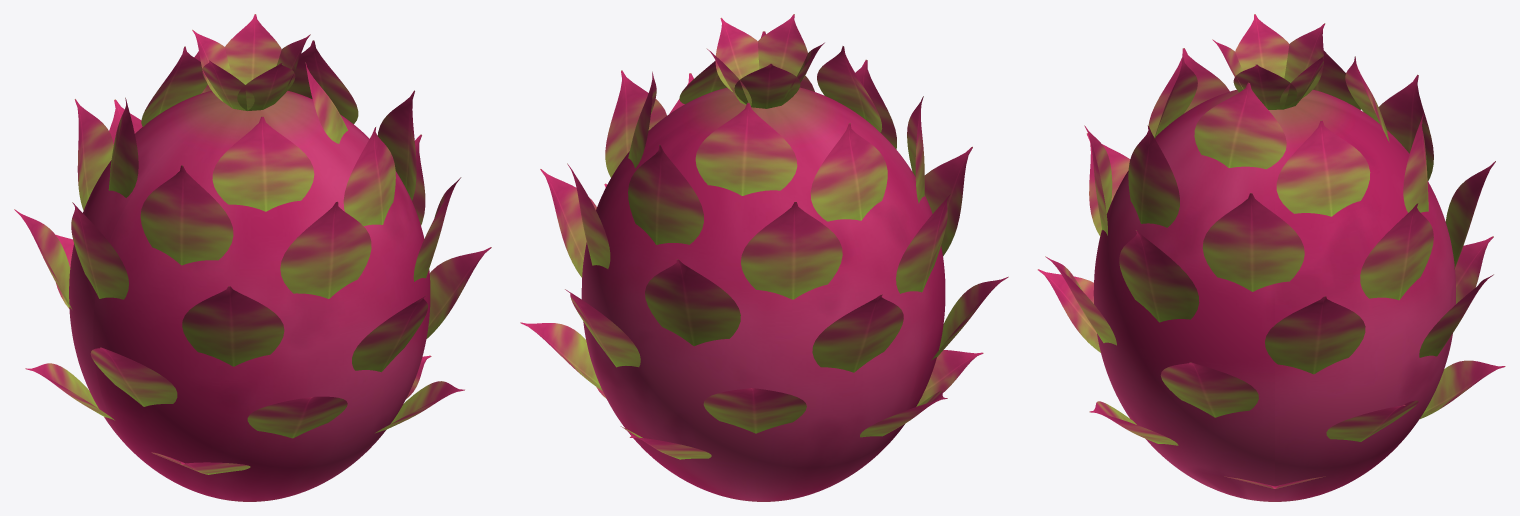
Rendered from pitaya.glb.
The picture shows the model from 3 angles, left to right: view 1: azimuth 30°, elevation 25°; view 2: azimuth 150°, elevation 25°; view 3: azimuth 270°, elevation 25°; orthographic projection.
Parts seen in each view (by area): view 1: moitie_A_peau, entier_peau, moitie_B_peau, entier_extra27, entier_extra22, entier_extra19, entier_extra14, entier_extra24, entier_extra17, entier_extra6, entier_extra11, entier_extra9 (+18 smaller); view 2: moitie_B_peau, entier_peau, entier_extra20, moitie_A_peau, entier_extra28, entier_extra15, entier_extra25, entier_extra23, entier_extra12, entier_extra7, entier_extra21, entier_extra17 (+17 smaller); view 3: moitie_A_peau, moitie_B_peau, entier_peau, entier_extra21, entier_extra26, entier_extra29, entier_extra13, entier_extra16, entier_extra18, entier_extra24, entier_extra8, entier_extra20 (+19 smaller).
Part boxes in pixels (x1,y1,x2,y2): moitie_A_peau: (93, 95, 430, 501); entier_peau: (69, 91, 430, 501); moitie_B_peau: (69, 91, 312, 462); entier_extra27: (212, 116, 314, 211); entier_extra22: (140, 165, 233, 265); entier_extra19: (280, 201, 371, 298); entier_extra14: (182, 286, 284, 366); entier_extra24: (343, 127, 395, 226); entier_extra17: (71, 202, 128, 299); entier_extra6: (247, 396, 347, 438); entier_extra11: (352, 296, 427, 372); entier_extra9: (90, 347, 177, 406); moitie_B_peau: (581, 93, 920, 501); entier_peau: (581, 87, 944, 501); entier_extra20: (741, 202, 842, 299); moitie_A_peau: (676, 87, 945, 460); entier_extra28: (695, 102, 797, 195); entier_extra15: (645, 259, 740, 346); entier_extra25: (810, 123, 887, 221); entier_extra23: (628, 145, 703, 244); entier_extra12: (812, 294, 903, 372); entier_extra7: (703, 388, 806, 433); entier_extra21: (605, 70, 666, 177); entier_extra17: (896, 194, 950, 293); moitie_A_peau: (1093, 89, 1274, 501); moitie_B_peau: (1275, 89, 1455, 501); entier_peau: (1094, 91, 1455, 501); entier_extra21: (1202, 193, 1304, 291); entier_extra26: (1276, 120, 1370, 216); entier_extra29: (1194, 82, 1286, 169); entier_extra13: (1265, 296, 1365, 374); entier_extra16: (1119, 230, 1199, 322); entier_extra18: (1360, 203, 1433, 300); entier_extra24: (1128, 125, 1179, 227); entier_extra8: (1160, 362, 1258, 417); entier_extra20: (1378, 74, 1433, 180).
Size of the model in its own units: 0.1186 by 0.1262 by 0.1188.
Materials: 3 (3 with a texture image).
